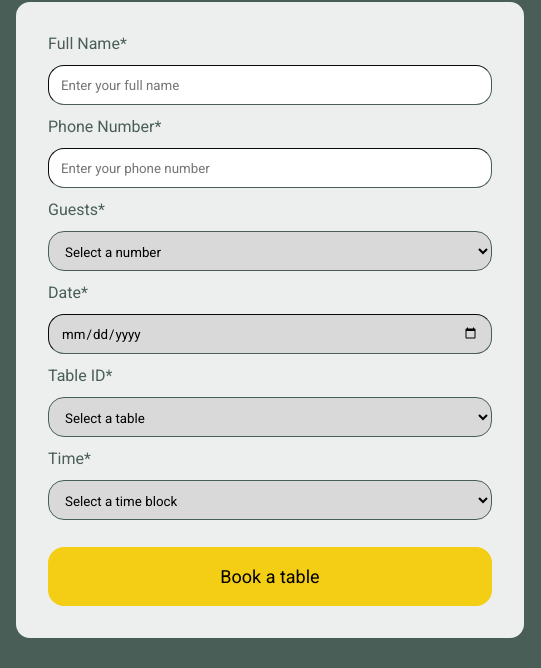
BookingForm Component › blocks submission on blocked date
The image size is (541, 668).
Type "Martins Obi" into the field labelled "Enter your full name".
click(270, 85); type("Martins Obi")  # box [48, 65, 492, 105]
Type "08012345678" into the field labelled "Enter your phone number".
click(270, 168); type("08012345678")  # box [48, 148, 492, 188]
Select "2" in the dropdown named "Number of Guests" at (270, 251), box [48, 231, 492, 271]
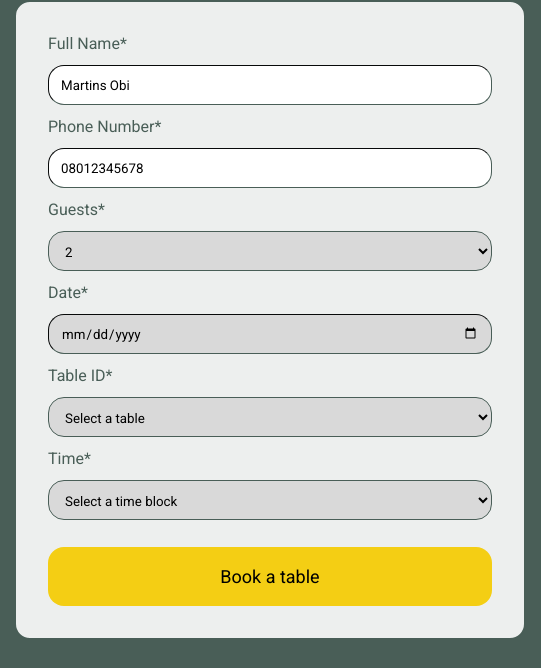
Type "2025-07-22" into the date field named "Reservation Date".
click(270, 334); type("2025-07-22")  # box [48, 314, 492, 354]
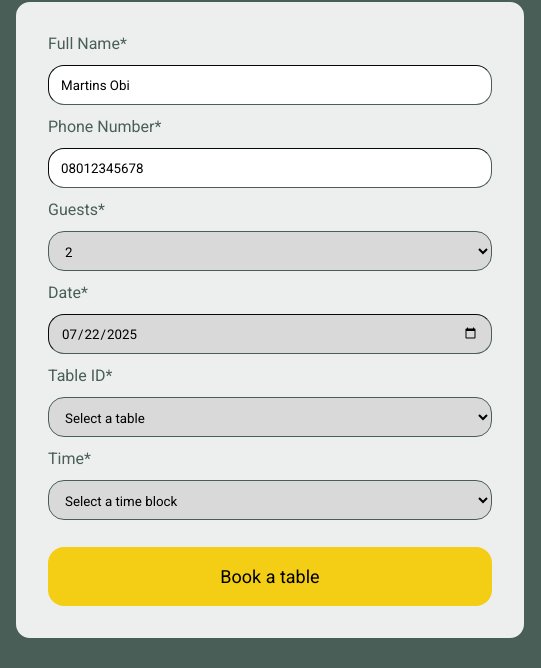
Select "A2" in the dropdown named "Table Selection" at (270, 417), box [48, 397, 492, 437]
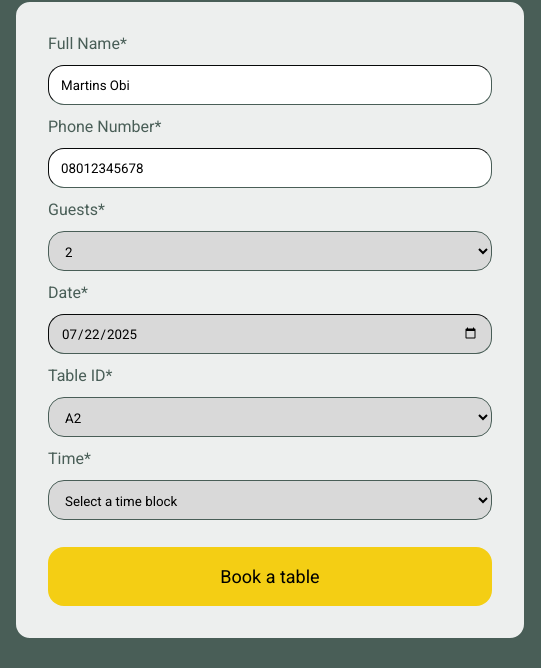
Select "12:00pm–2:00pm" in the dropdown named "Time Block" at (270, 500), box [48, 480, 492, 520]
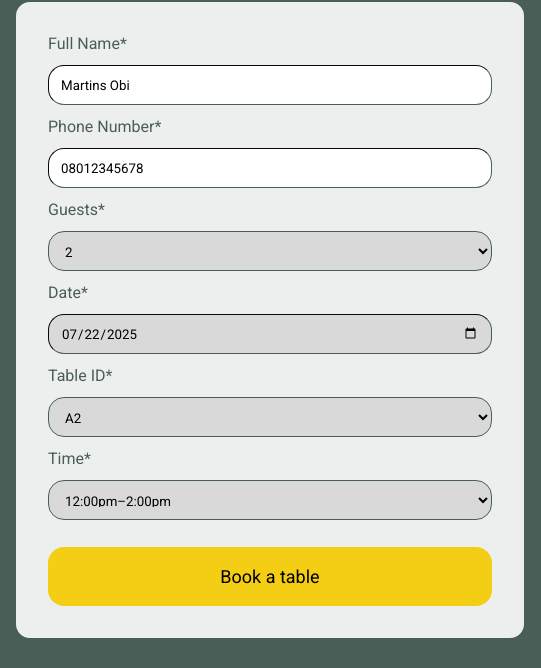
Type "2025-07-20" into the date field named "Reservation Date".
click(270, 334); type("2025-07-20")  # box [48, 314, 492, 354]
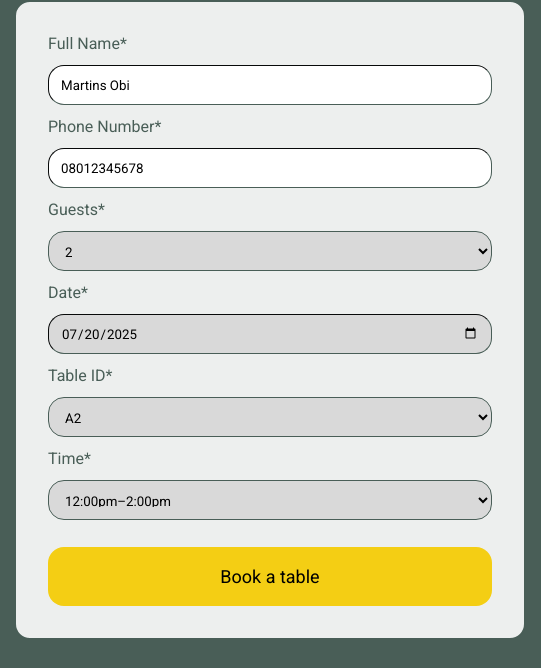
Click the button with aria-label "Submit Booking Form".
click(270, 576)  # box [48, 547, 492, 606]
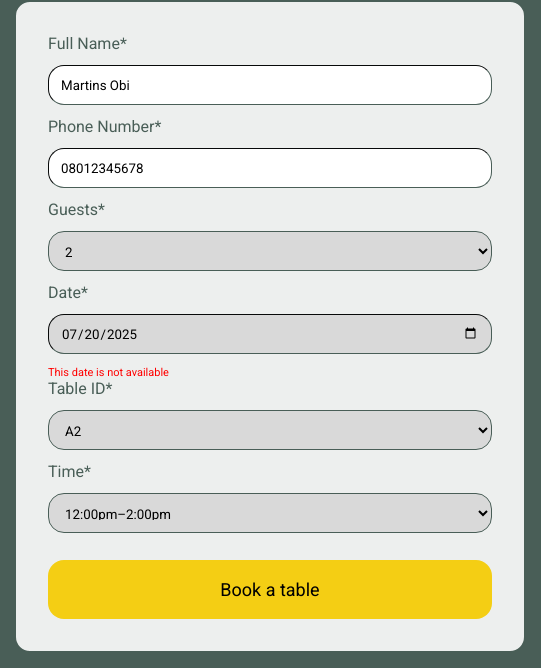
Check: the text "This date is not available" is shown, box [48, 366, 169, 379]
